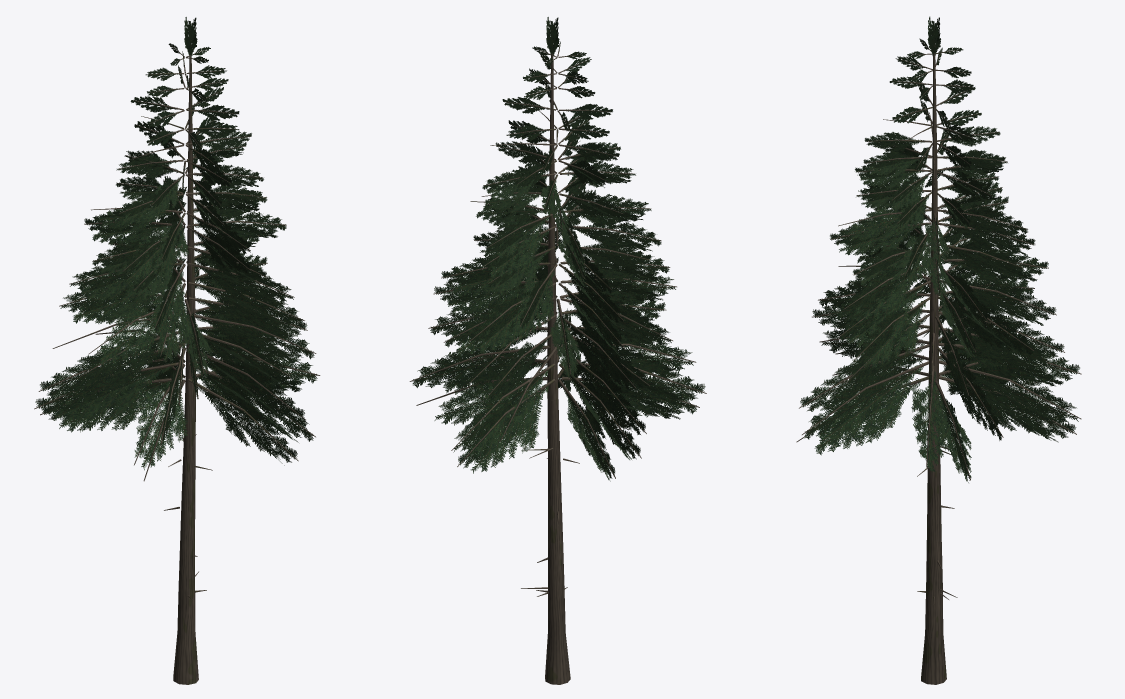
The model's file is S7U_Spruce_A.fbx.
3 renders of one model, left to right at view 1: azimuth 30°, elevation 25°; view 2: azimuth 150°, elevation 25°; view 3: azimuth 270°, elevation 25°, orthographic.
Parts seen in each view (by area): view 1: S7U_Spruce_A; view 2: S7U_Spruce_A; view 3: S7U_Spruce_A.
Part boxes in pixels (left/top/right/bottom): S7U_Spruce_A: left=34, top=17, right=320, bottom=684; S7U_Spruce_A: left=409, top=17, right=706, bottom=684; S7U_Spruce_A: left=796, top=16, right=1081, bottom=684.
Bounding box in the file's own units: 7.85 × 16.6 × 7.93.
